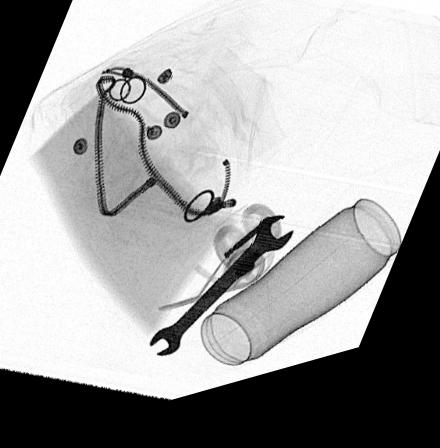Wrench: (148, 229, 297, 367)
